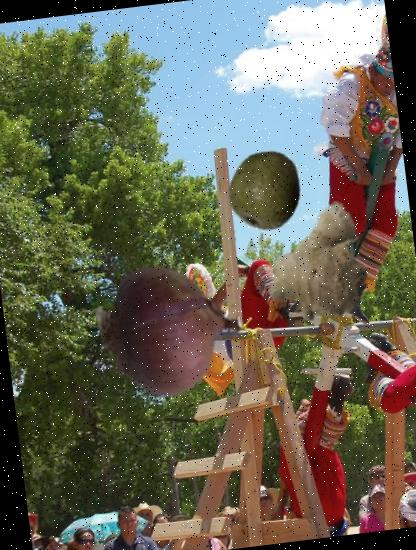Ginger: (249, 192, 387, 330)
Guava: (220, 145, 312, 236)
Onion: (93, 252, 248, 407)
Potato: (294, 221, 352, 278)
